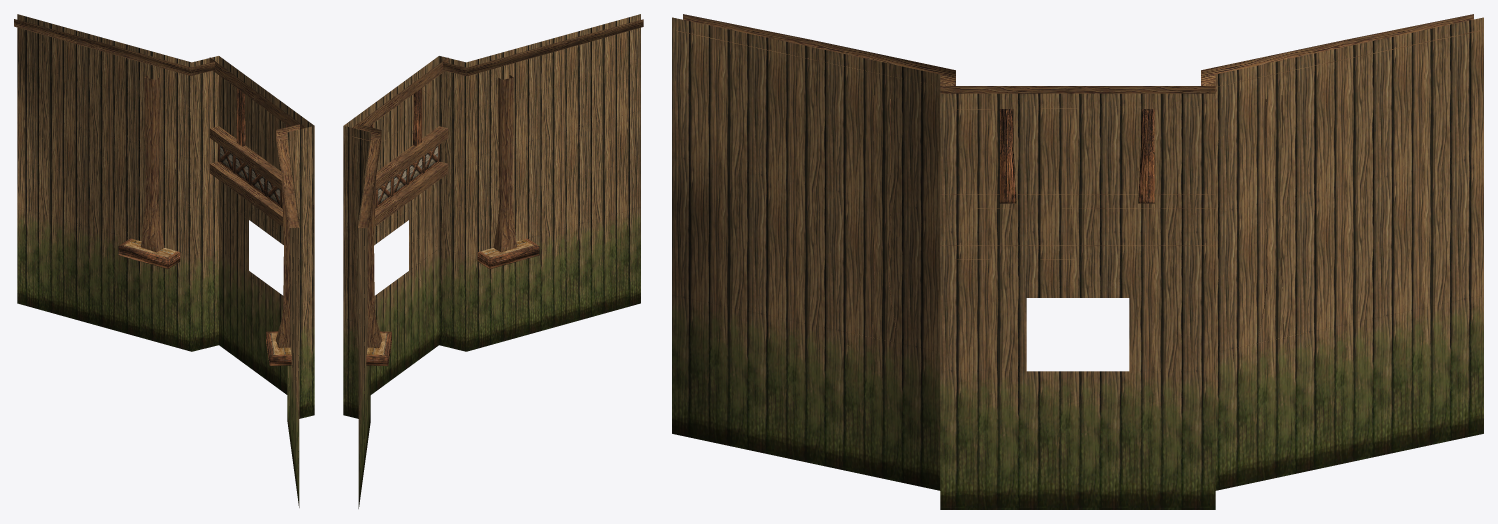
File: LAKETOWN_WAREHOUSE2_PS_WH2_FRONTWALL9494__GX.fbx
The picture shows the model from 3 angles, left to right: view 1: azimuth 30°, elevation 25°; view 2: azimuth 150°, elevation 25°; view 3: azimuth 270°, elevation 25°; orthographic projection. The views are drawn at different scales.
Visible parts, largest first — view 1: LAKETOWN_WAREHOUSE2_PS_WH2_FRONTWALL9494__GX; view 2: LAKETOWN_WAREHOUSE2_PS_WH2_FRONTWALL9494__GX; view 3: LAKETOWN_WAREHOUSE2_PS_WH2_FRONTWALL9494__GX.
Boxes of the visible parts, x1,y1,x2,y2 form: LAKETOWN_WAREHOUSE2_PS_WH2_FRONTWALL9494__GX: (14, 14, 314, 507); LAKETOWN_WAREHOUSE2_PS_WH2_FRONTWALL9494__GX: (343, 14, 643, 508); LAKETOWN_WAREHOUSE2_PS_WH2_FRONTWALL9494__GX: (672, 14, 1483, 509).
Bounding box in the file's own units: 45709 × 107256 × 189000.
8 materials, 8 textured.
